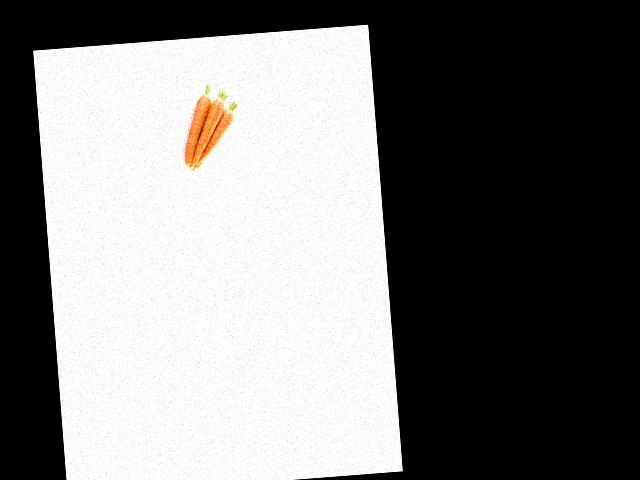carrot: (178, 87, 217, 164)
